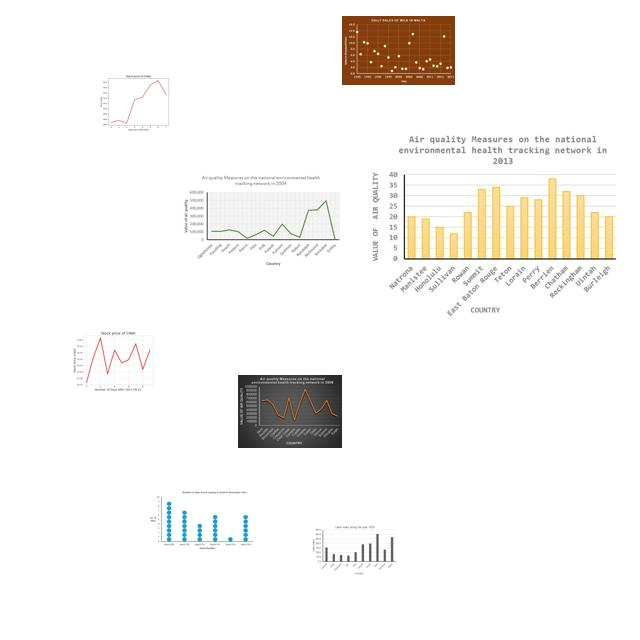Graph: (356, 131, 624, 319), (180, 173, 342, 270), (342, 16, 455, 85), (238, 375, 342, 448), (149, 490, 253, 551), (72, 326, 162, 394), (97, 71, 178, 132), (312, 525, 397, 575)
